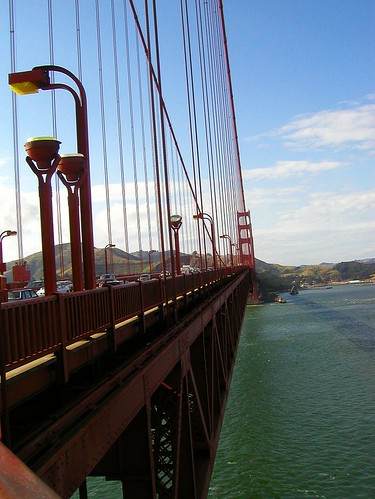bridge: (1, 240, 282, 499)
light pole: (10, 57, 108, 312)
sea: (239, 290, 375, 494)
sky: (1, 1, 370, 238)
